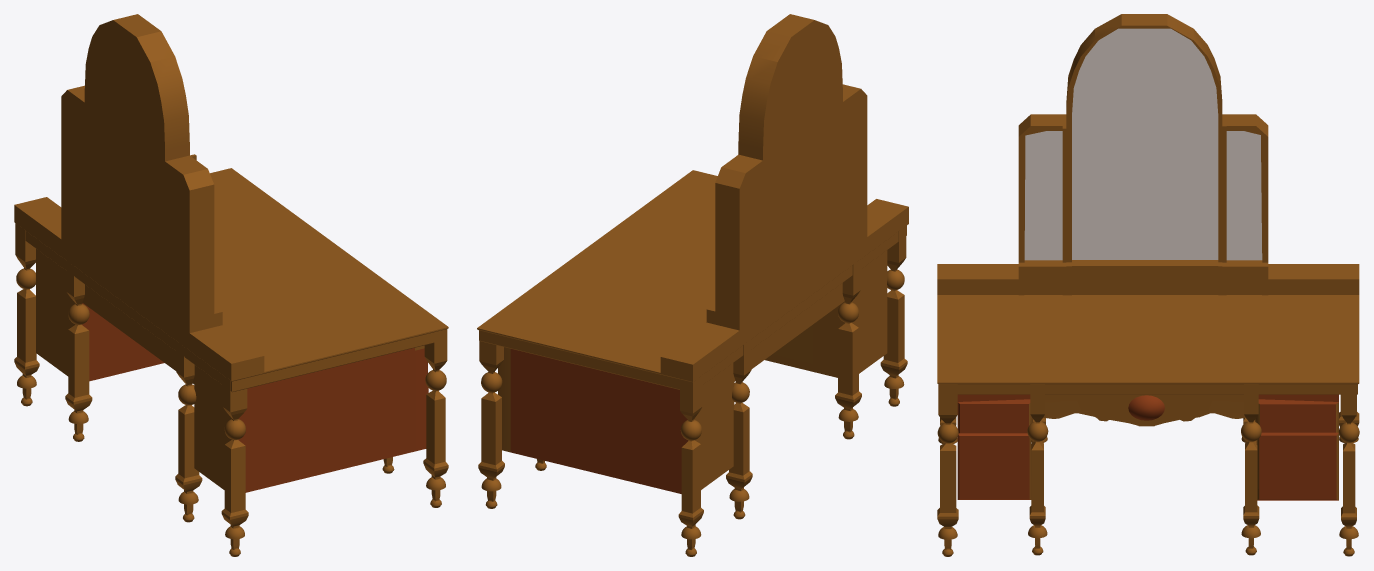
File: Vanity(v1.Textured).fbx
3 views of the same model, side by side, from view 1: azimuth 30°, elevation 25°; view 2: azimuth 150°, elevation 25°; view 3: azimuth 270°, elevation 25° (orthographic). The views are drawn at different scales.
Parts seen in each view (by area): view 1: Vanity_Edited; view 2: Vanity_Edited; view 3: Vanity_Edited.
Part boxes in pixels (x1=…): Vanity_Edited: x1=14, y1=14, x2=448, y2=556; Vanity_Edited: x1=477, y1=14, x2=908, y2=556; Vanity_Edited: x1=937, y1=14, x2=1359, y2=556.
Bounding box in the file's own units: 1897 × 3725 × 3222.
